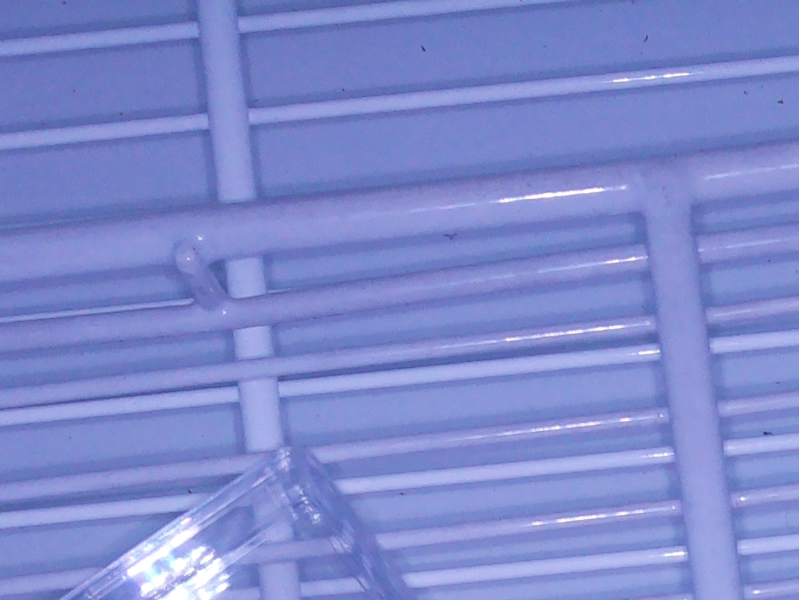plate: (46, 444, 411, 600)
